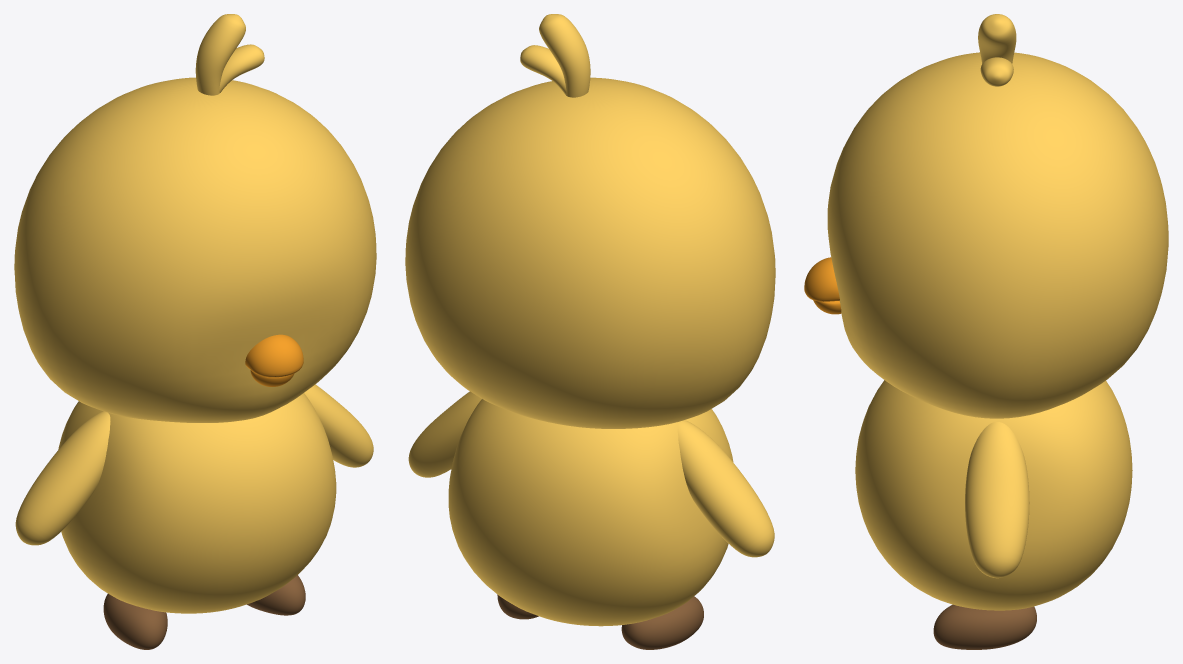
The model's file is Piyoko_Character_v01.fbx.
The picture shows the model from 3 angles, left to right: view 1: azimuth 30°, elevation 25°; view 2: azimuth 150°, elevation 25°; view 3: azimuth 270°, elevation 25°; orthographic projection. The views are drawn at different scales.
Visible parts, largest first — view 1: Head, Body, Arm_right, Arm_left, Hair_big, Leg_right, Mouht_up, Leg_left, Hair_mini; view 2: Head, Body, Arm_right, Arm_left, Hair_big, Leg_right, Hair_mini; view 3: Head, Body, Arm_left, Leg_left, Hair_big, Mouht_up, Hair_mini.
Part boxes in pixels (<box>): Head: <box>14,77,376,422</box>; Body: <box>58,393,336,613</box>; Arm_right: <box>15,411,110,545</box>; Arm_left: <box>304,384,373,467</box>; Hair_big: <box>195,14,245,95</box>; Leg_right: <box>103,593,167,649</box>; Mouht_up: <box>245,334,303,377</box>; Leg_left: <box>247,575,305,615</box>; Hair_mini: <box>219,44,264,92</box>; Head: <box>405,77,775,428</box>; Body: <box>448,399,733,626</box>; Arm_right: <box>677,420,774,557</box>; Arm_left: <box>408,391,481,477</box>; Hair_big: <box>539,14,590,97</box>; Leg_right: <box>621,596,703,649</box>; Hair_mini: <box>520,45,566,94</box>; Head: <box>827,52,1168,418</box>; Body: <box>855,380,1132,610</box>; Arm_left: <box>965,422,1029,578</box>; Leg_left: <box>933,604,1036,649</box>; Hair_big: <box>978,14,1016,63</box>; Mouht_up: <box>804,257,839,301</box>; Hair_mini: <box>980,57,1013,86</box>.
Size of the model in its own units: 250 by 403 by 217.
